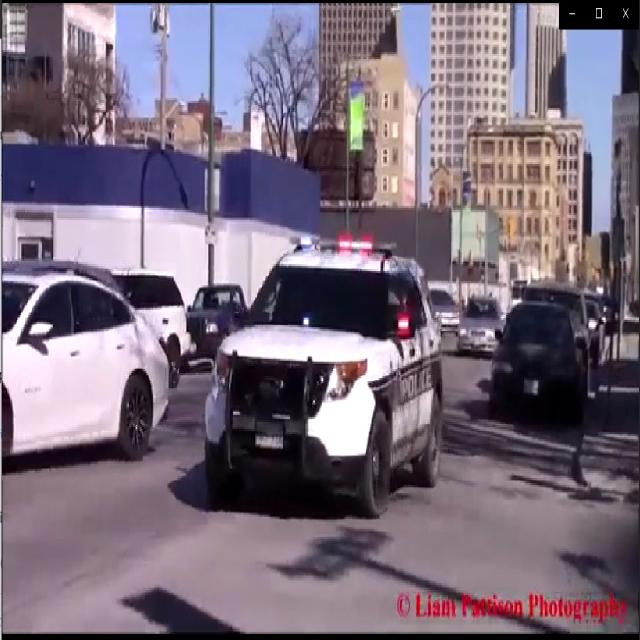emergency: (193, 230, 447, 532)
